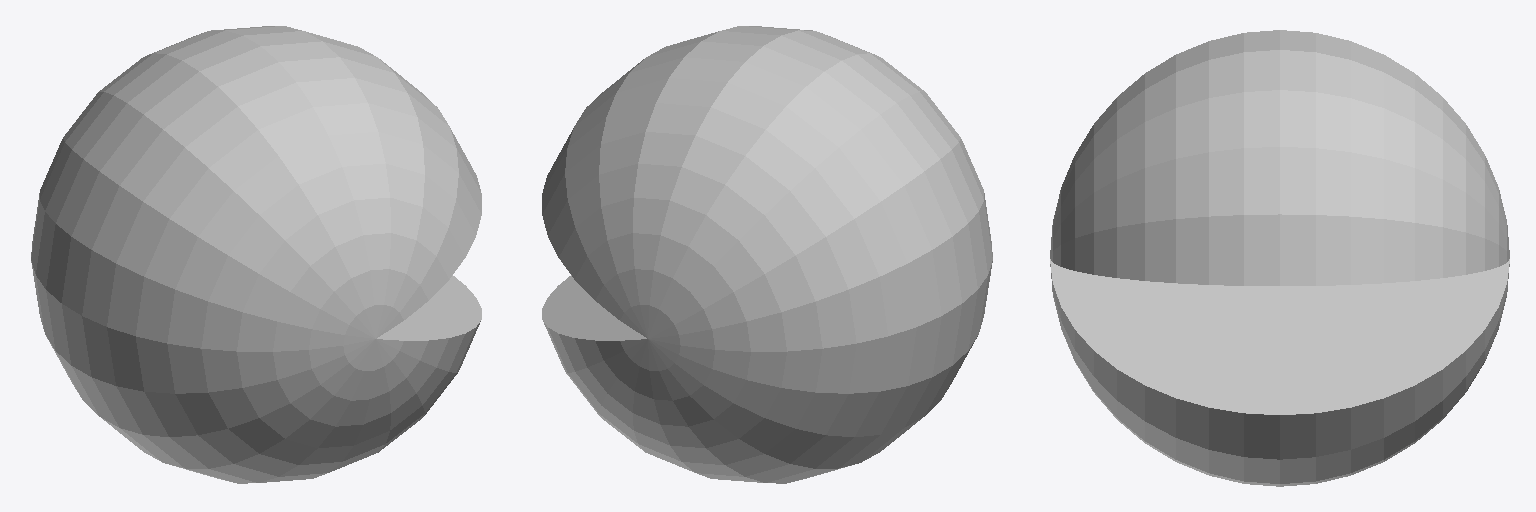
File: pacman1.obj
3 renders of one model, left to right at view 1: azimuth 30°, elevation 25°; view 2: azimuth 150°, elevation 25°; view 3: azimuth 270°, elevation 25°, orthographic.
Visible parts, largest first — view 1: pSphere2; view 2: pSphere2; view 3: pSphere2.
Boxes of the visible parts, <box> form: pSphere2: <box>31,26,481,483</box>; pSphere2: <box>542,26,992,483</box>; pSphere2: <box>1050,30,1509,486</box>.
Bounding box in the file's own units: 1.95 × 2 × 2.